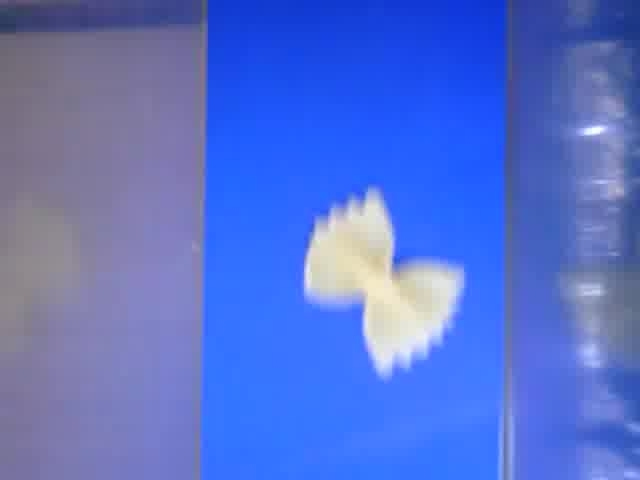farfalle: (305, 188, 465, 375)
